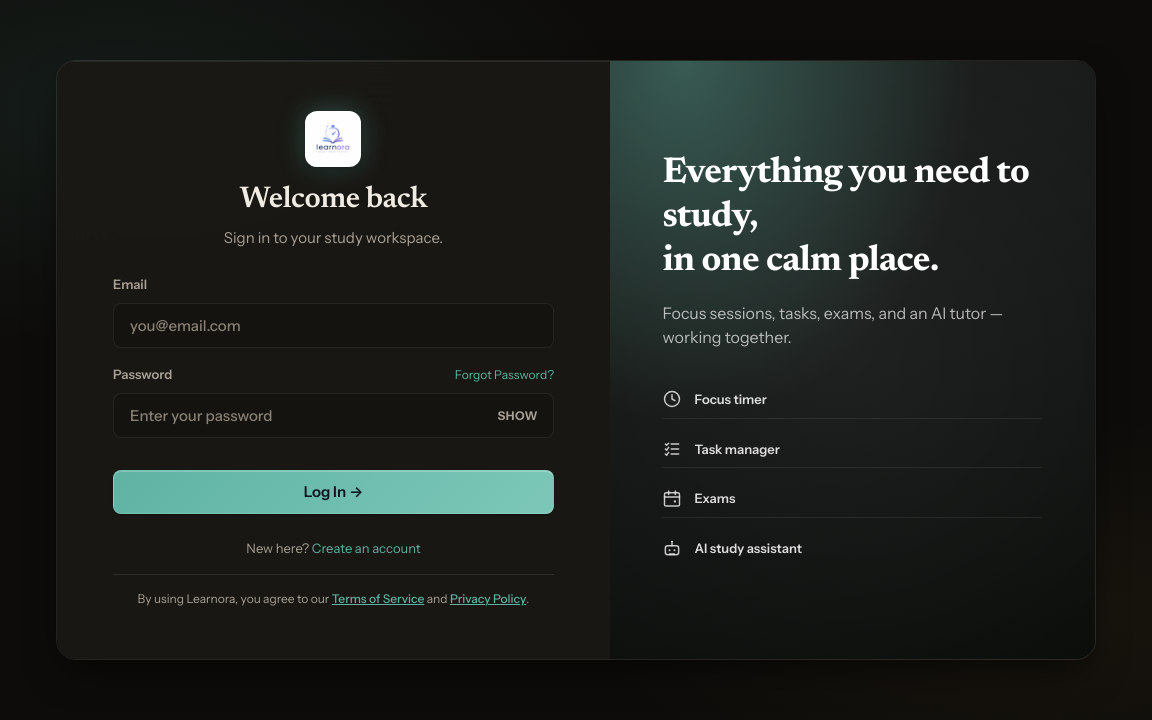
LoginView › shows the friendly message for bad credentials, as an alert
The width and height of the screenshot is (1152, 720).
Type "ada@example.com" into the field labelled "Email" at (334, 325), box [113, 303, 554, 348]
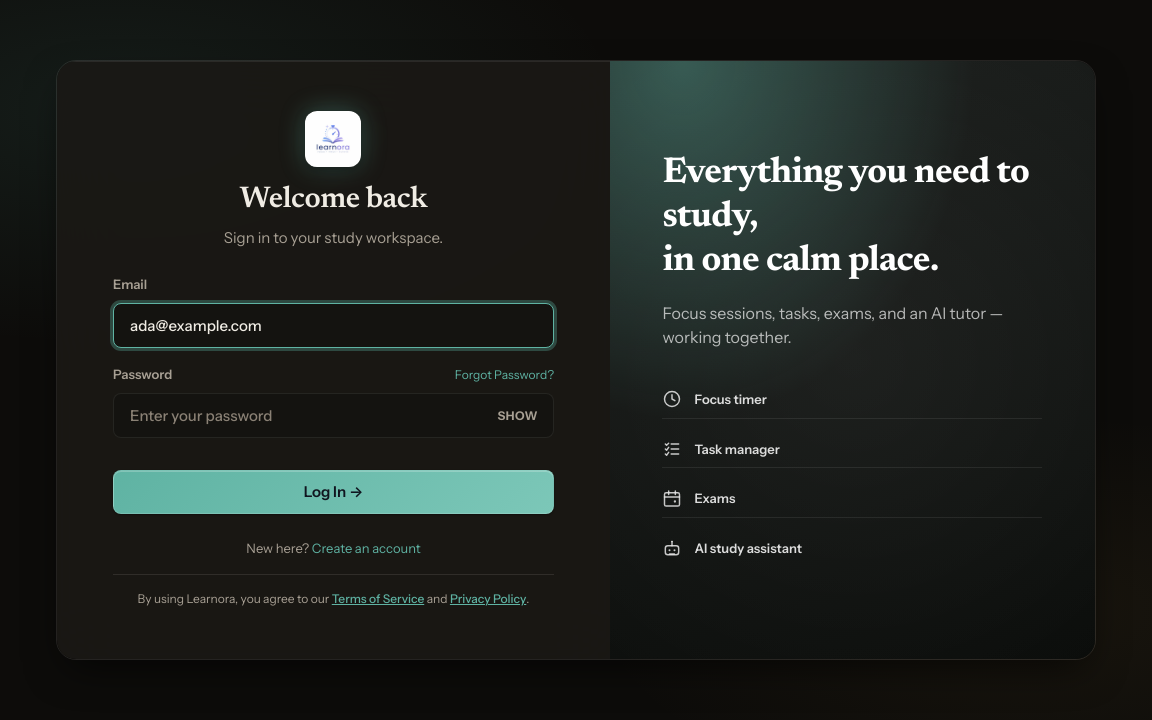
Type "wrong-password" into the password field labelled "Password" at (334, 415), box [113, 392, 554, 438]
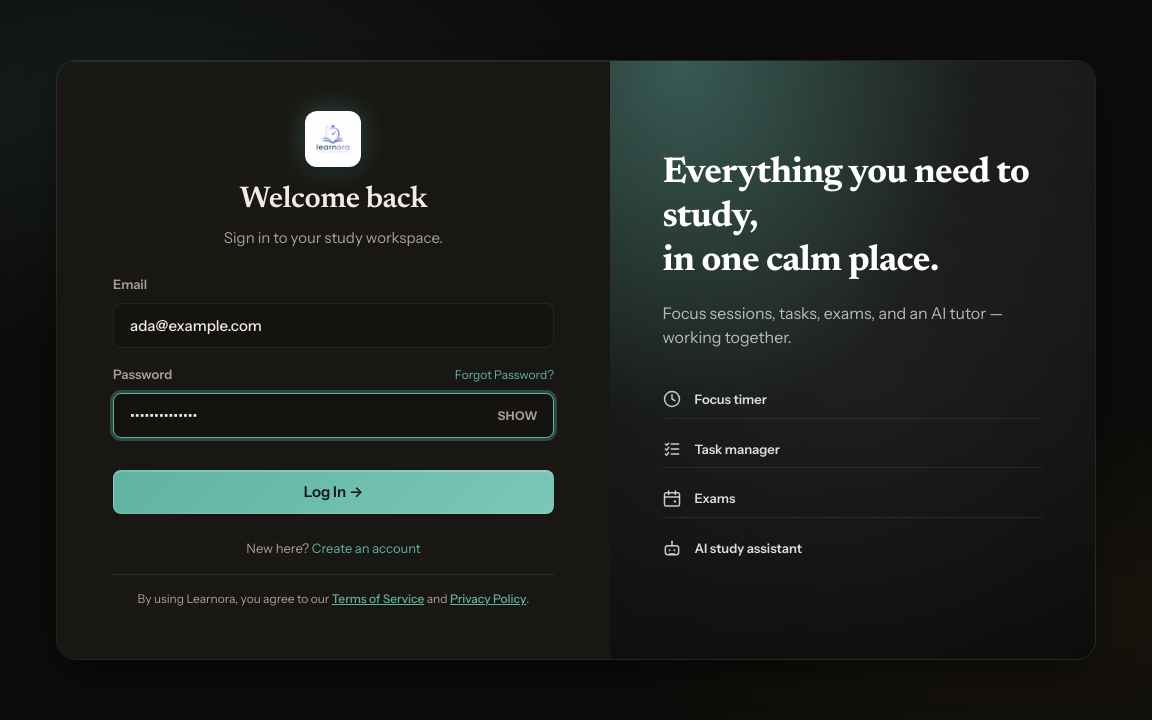
Click the button "Log In →" at (334, 492), box [113, 470, 554, 514]
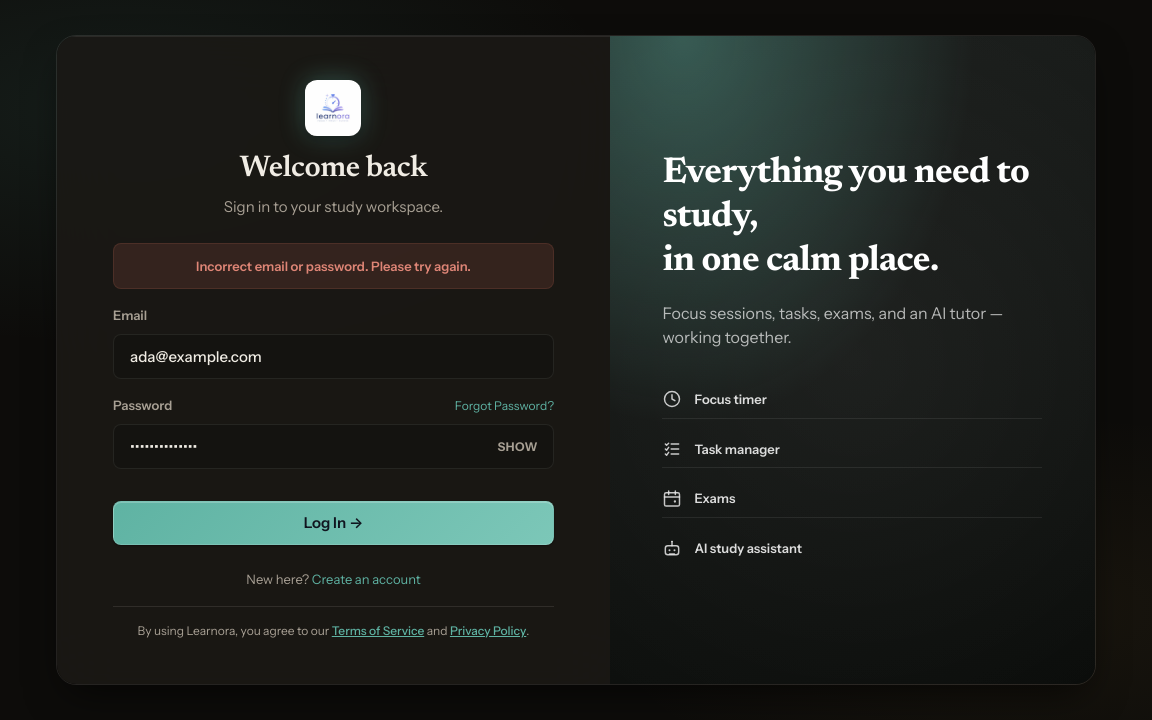
Now the message shows "Incorrect email or password.", box [196, 258, 471, 274]
